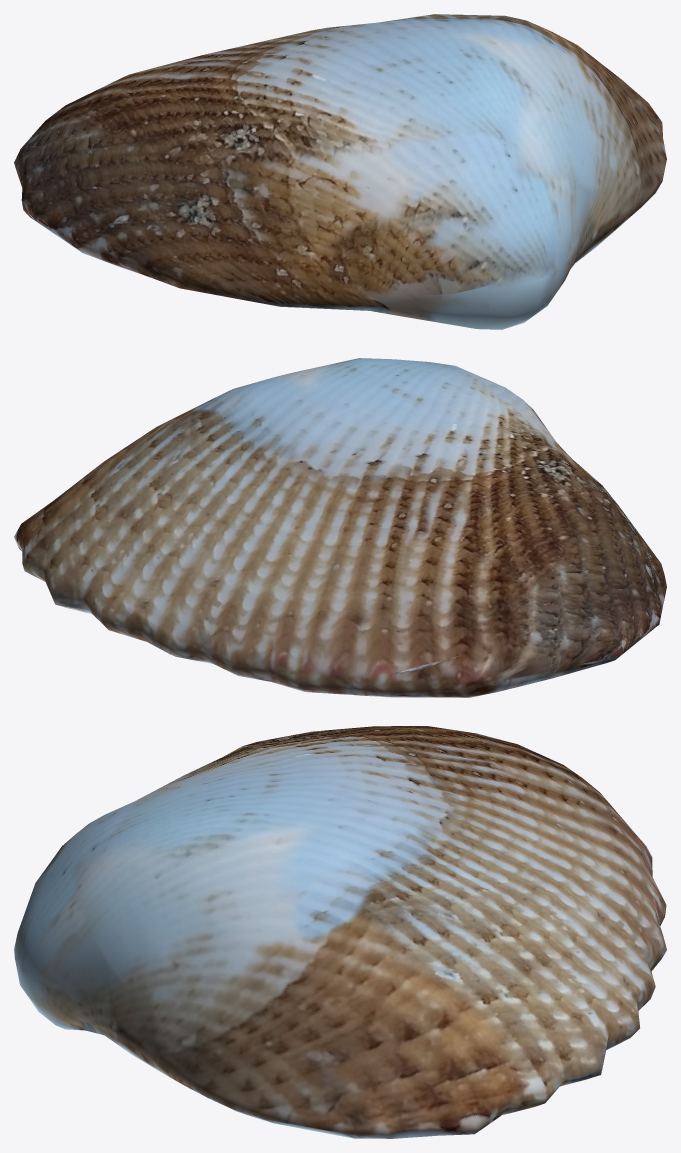
The model's file is Cockle3.fbx.
3 renders of one model, top to bottom at view 1: azimuth 30°, elevation 25°; view 2: azimuth 150°, elevation 25°; view 3: azimuth 270°, elevation 25°, orthographic. The views are drawn at different scales.
Visible parts, largest first — view 1: Cockle3_LOD0; view 2: Cockle3_LOD0; view 3: Cockle3_LOD0.
Boxes of the visible parts, box(x1,y1,x2,y2) form: Cockle3_LOD0: box(14, 14, 666, 329); Cockle3_LOD0: box(14, 358, 666, 697); Cockle3_LOD0: box(14, 726, 666, 1138).
Size of what is drawn, in the model's own units: 22.4 by 7.14 by 18.44.
